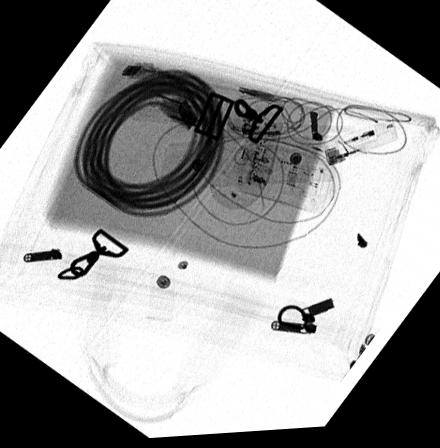Lighter: (321, 123, 400, 170)
